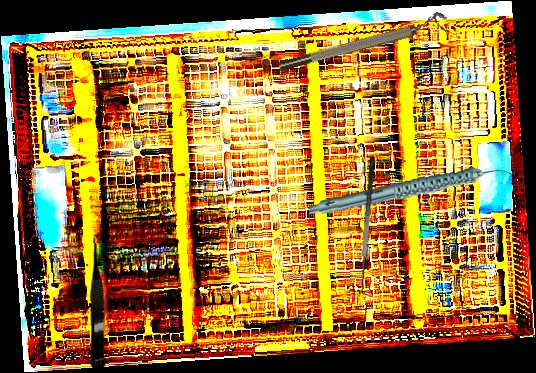Fixation Ring: (275, 10, 451, 74)
Handpiece: (309, 160, 511, 222)
Micro Scissor: (88, 230, 108, 371)
Spatula Surgical: (354, 156, 388, 298)
